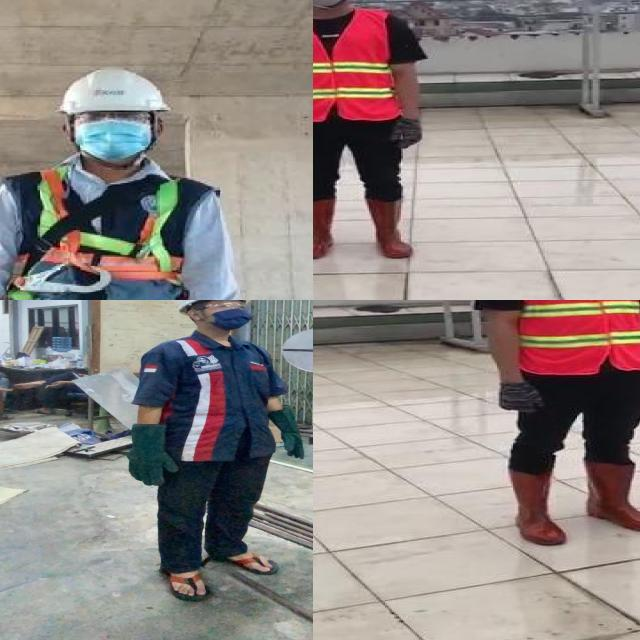boots: (500, 461, 569, 547), (580, 459, 640, 535), (364, 200, 417, 260), (313, 201, 337, 260)
face_mask: (70, 109, 154, 160), (205, 300, 255, 328)
glasses: (195, 301, 252, 312)
hand_glove: (121, 422, 184, 486), (268, 410, 313, 458), (490, 381, 547, 413), (392, 119, 424, 150)
head_helmet: (49, 64, 174, 118)
person: (0, 45, 261, 300), (130, 300, 301, 605), (469, 300, 640, 547), (313, 0, 440, 264)
vest: (0, 163, 231, 300), (500, 300, 640, 374), (313, 10, 399, 123)
